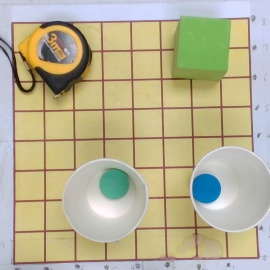cup_blue: (176, 144, 269, 231)
cup_green: (62, 151, 150, 241)
